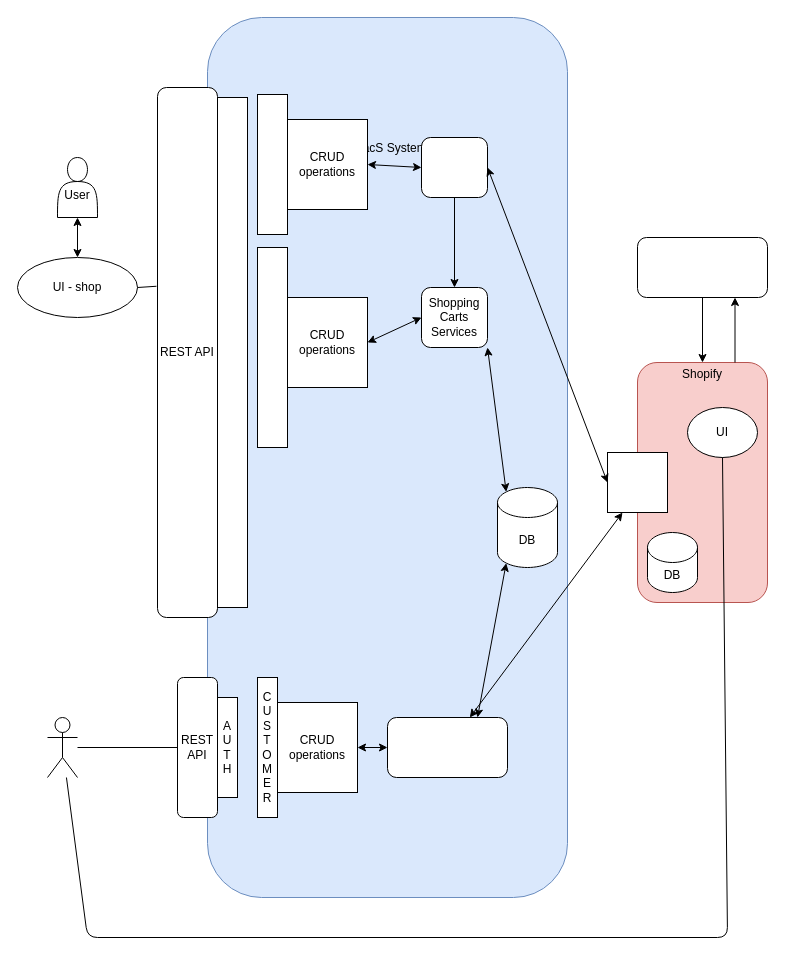
This 785x956 diagram has some shape labels left out. The centre of each missing label's shape, as x and y in pixels:
A U T H E N T I C A T I O N A U T H O R I Z A T I O N: the point at 232,352
Admin: the point at 62,747
API Node Interface REST: the point at 637,482
Customer Services: the point at 447,747
External Platform f.e. Excelify: the point at 702,267
P R O D U C T S: the point at 272,164
Product Services: the point at 454,167
S H O P P I N G C A R T S: the point at 272,347
